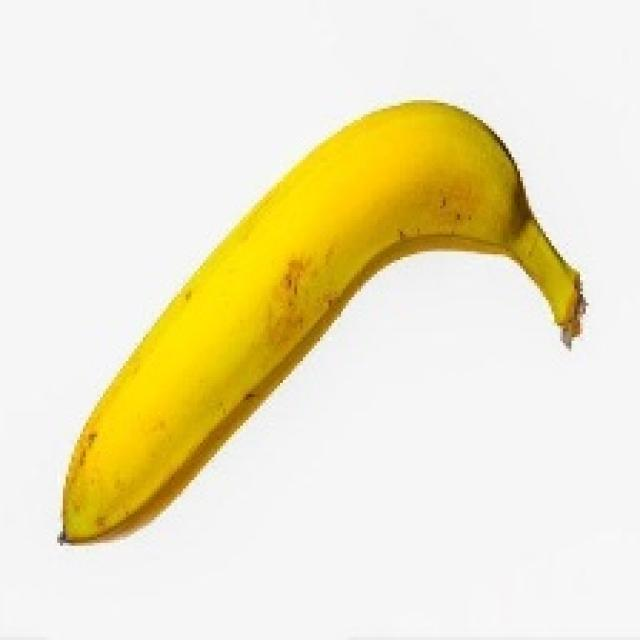Banana: (54, 97, 586, 546)
